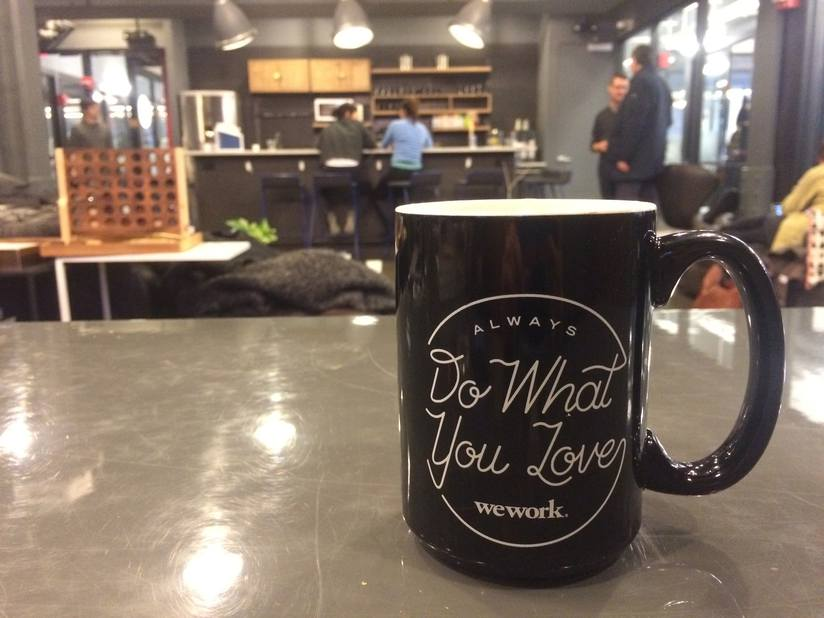wework: (472, 493, 564, 522)
